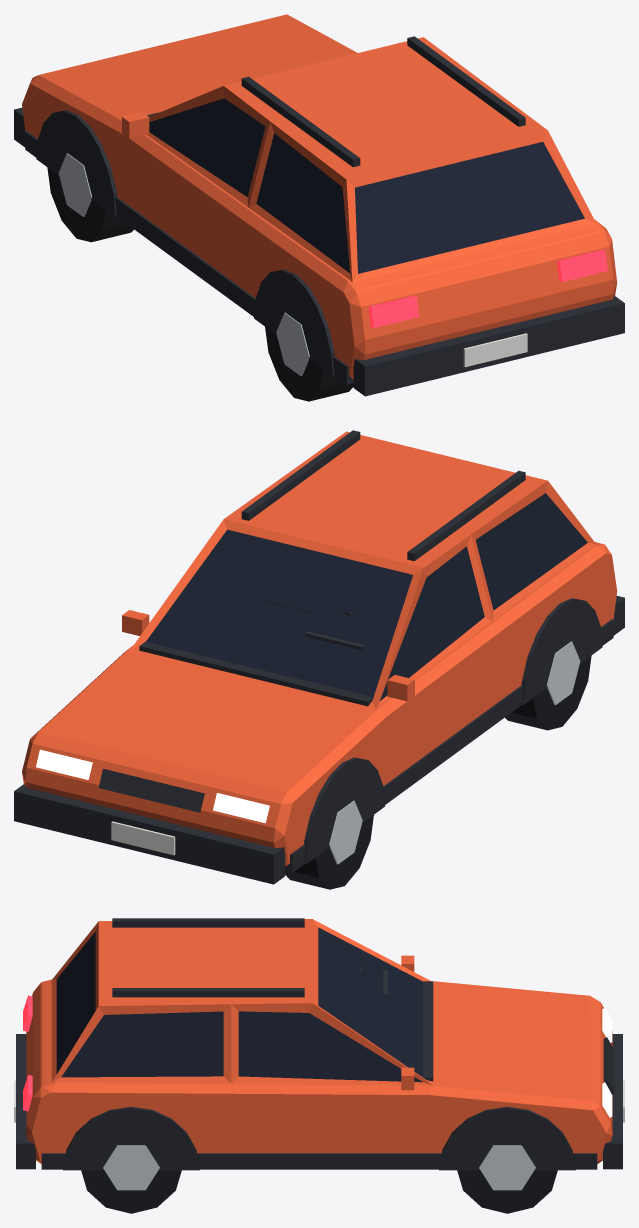
The model's file is rentxe-car.glb.
3 renders of one model, top to bottom at view 1: azimuth 30°, elevation 25°; view 2: azimuth 150°, elevation 25°; view 3: azimuth 270°, elevation 25°, orthographic. The views are drawn at different scales.
Visible parts, largest first — view 1: Car_Body, Wheel_RL, Wheel_FL; view 2: Car_Body, Wheel_FL, Wheel_RL; view 3: Car_Body, Wheel_FR, Wheel_RR.
Part boxes in pixels (bbox=[...]): Car_Body: bbox=[14, 14, 624, 396]; Wheel_RL: bbox=[265, 312, 353, 401]; Wheel_FL: bbox=[47, 153, 133, 242]; Car_Body: bbox=[14, 430, 624, 884]; Wheel_FL: bbox=[285, 800, 373, 889]; Wheel_RL: bbox=[505, 641, 591, 730]; Car_Body: bbox=[14, 918, 624, 1170]; Wheel_FR: bbox=[457, 1145, 557, 1213]; Wheel_RR: bbox=[81, 1145, 181, 1213].
Size of the model in its own units: 2 by 1.57 by 4.29.
